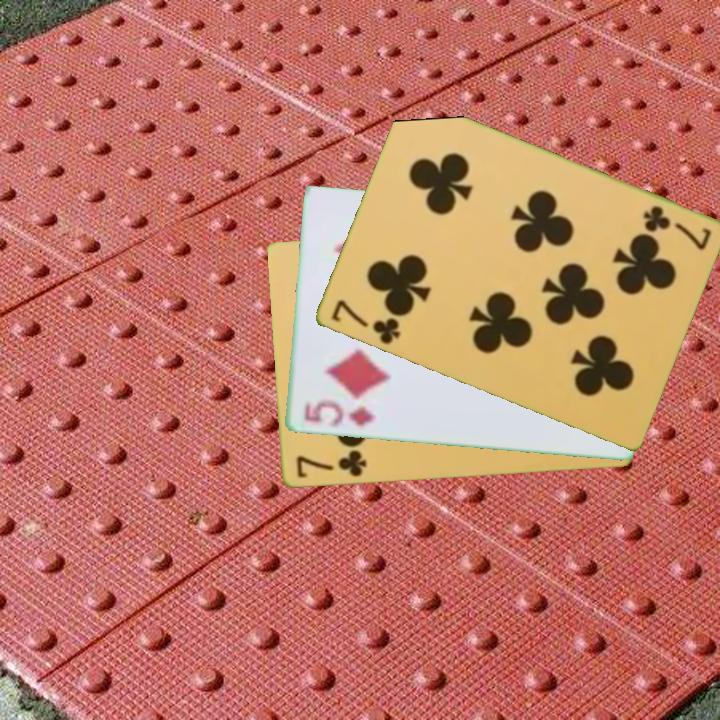5d: (300, 397, 378, 430)
7c: (327, 296, 403, 348), (638, 202, 714, 254), (292, 446, 369, 481)
